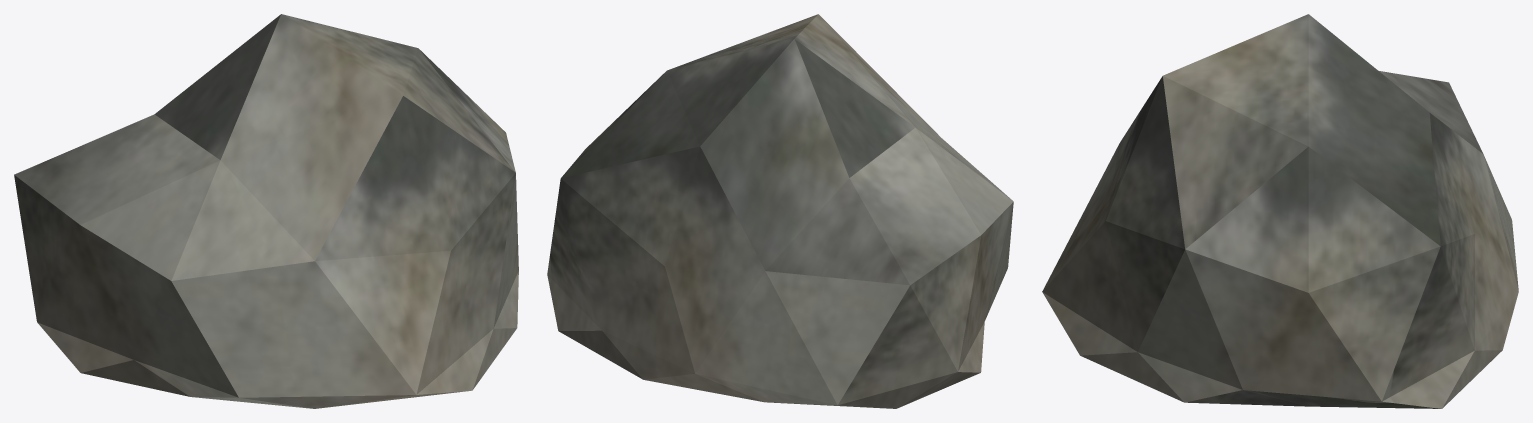
File: terrain4_rock_0.glb
3 renders of one model, left to right at view 1: azimuth 30°, elevation 25°; view 2: azimuth 150°, elevation 25°; view 3: azimuth 270°, elevation 25°, orthographic. The views are drawn at different scales.
Parts seen in each view (by area): view 1: terrain4_rock_0.glb; view 2: terrain4_rock_0.glb; view 3: terrain4_rock_0.glb.
Boxes of the visible parts, bbox=[...] form: terrain4_rock_0.glb: bbox=[14, 14, 518, 408]; terrain4_rock_0.glb: bbox=[547, 14, 1013, 408]; terrain4_rock_0.glb: bbox=[1042, 14, 1518, 408].
Bounding box in the file's own units: 3.34 × 2.26 × 3.19.
1 material, 1 textured.
